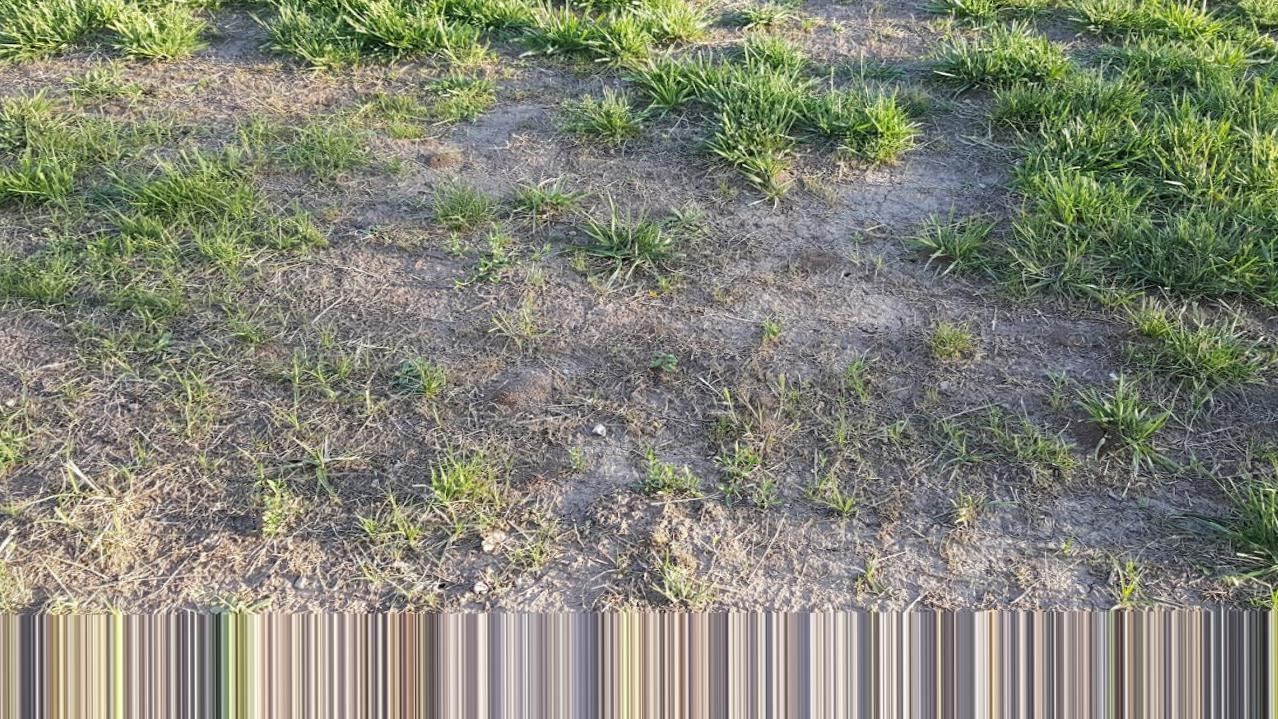patch: (250, 153, 1067, 579), (19, 344, 245, 556)
